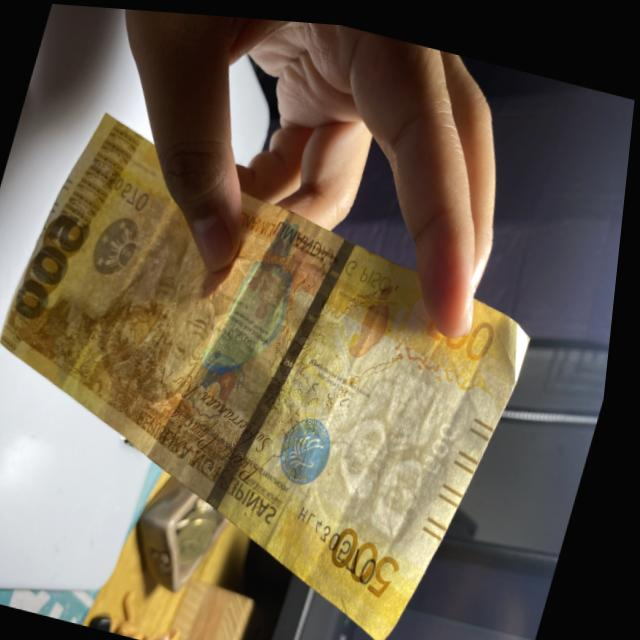500_big_parrot: (197, 199, 319, 403)
500_parrot_watermark: (349, 264, 409, 367)
value_watermark: (426, 403, 471, 472)
watermark: (330, 346, 491, 533)
